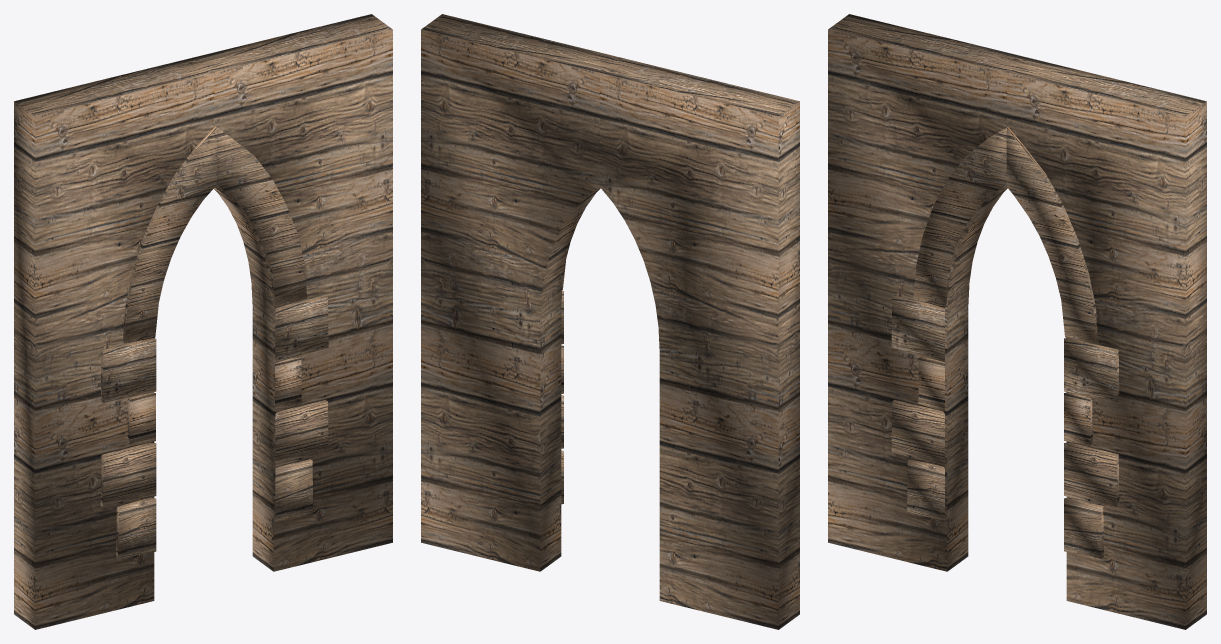
Rendered from wood door1.glb.
The picture shows the model from 3 angles, left to right: view 1: azimuth 30°, elevation 25°; view 2: azimuth 150°, elevation 25°; view 3: azimuth 330°, elevation 25°; orthographic projection.
Parts seen in each view (by area): view 1: Pointed Arch Door.002; view 2: Pointed Arch Door.002; view 3: Pointed Arch Door.002.
Part boxes in pixels (x1,y1,x2,y2): Pointed Arch Door.002: [14, 14, 392, 629]; Pointed Arch Door.002: [421, 14, 799, 629]; Pointed Arch Door.002: [828, 14, 1206, 629].
Size of the model in its own units: 2 by 2.74 by 0.225.
2 materials, 2 textured.
